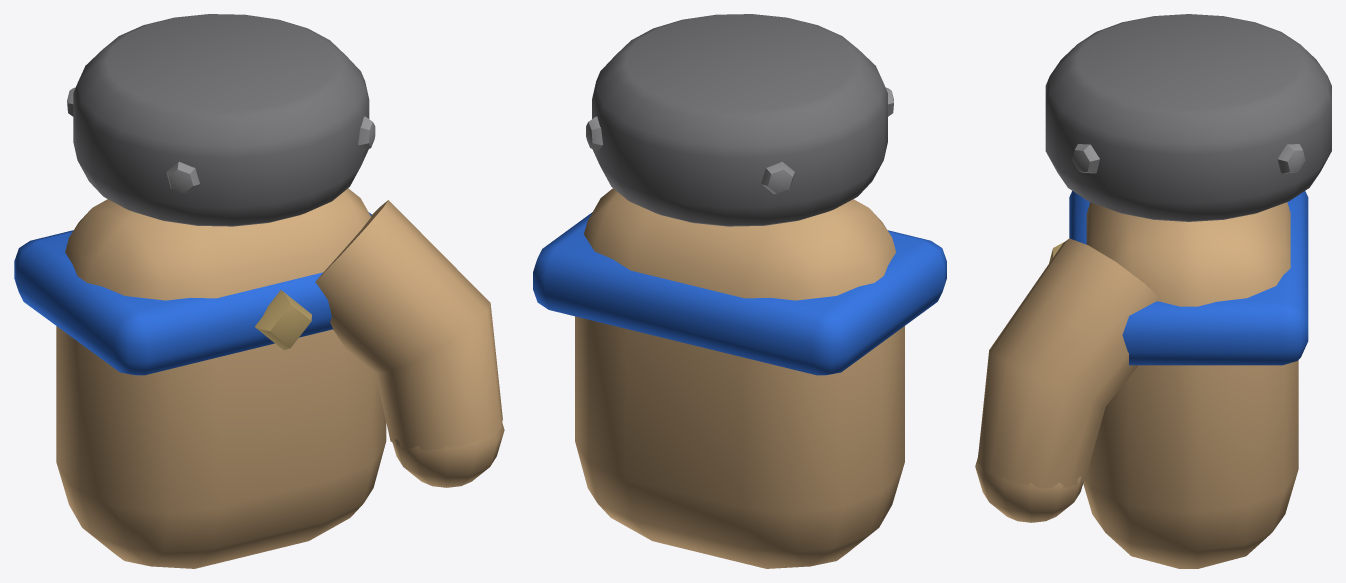
File: Kit_Hand_Mitten.glb
3 views of the same model, side by side, from view 1: azimuth 30°, elevation 25°; view 2: azimuth 150°, elevation 25°; view 3: azimuth 270°, elevation 25° (orthographic). The views are drawn at different scales.
Parts seen in each view (by area): view 1: Kit_Hand_Mitten; view 2: Kit_Hand_Mitten; view 3: Kit_Hand_Mitten.
Boxes of the visible parts, x1=… form: Kit_Hand_Mitten: x1=14, y1=14, x2=504, y2=568; Kit_Hand_Mitten: x1=533, y1=14, x2=946, y2=568; Kit_Hand_Mitten: x1=975, y1=14, x2=1331, y2=568.
Bounding box in the file's own units: 0.126 × 0.1655 × 0.1135.
